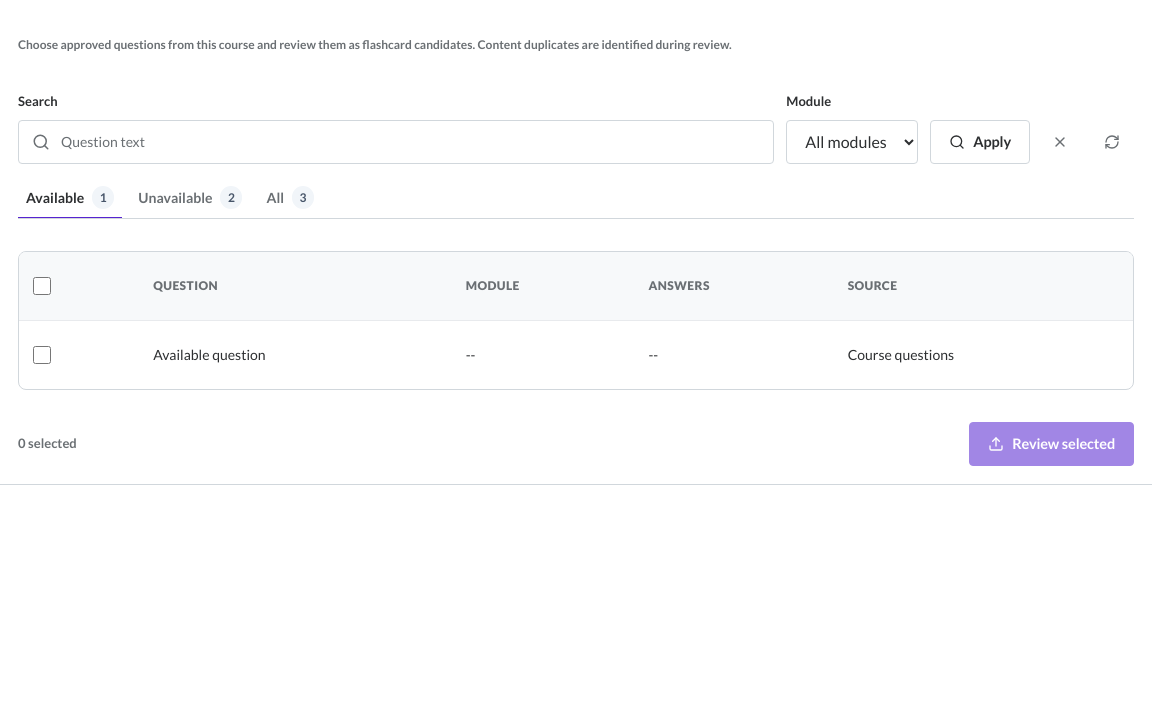
Test: Course Flashcard question import availability › preserves existing rows after a failed refresh
Expected: the text "Available question" is shown, [139,320,452,389]
Click the button named "Refresh course questions".
click(1112, 142)  # box [1090,120,1134,164]
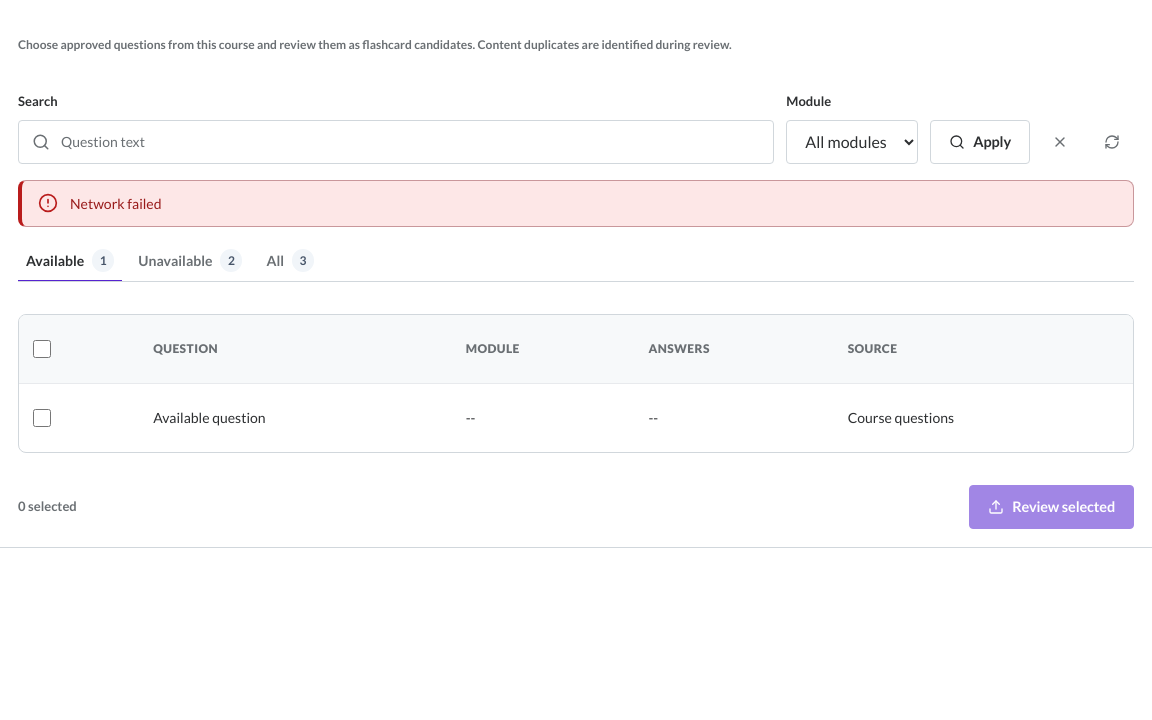
Expected: the text "Available question" is shown, [139,383,452,452]
Expected: the text "Network failed" is shown, [70,195,162,212]
